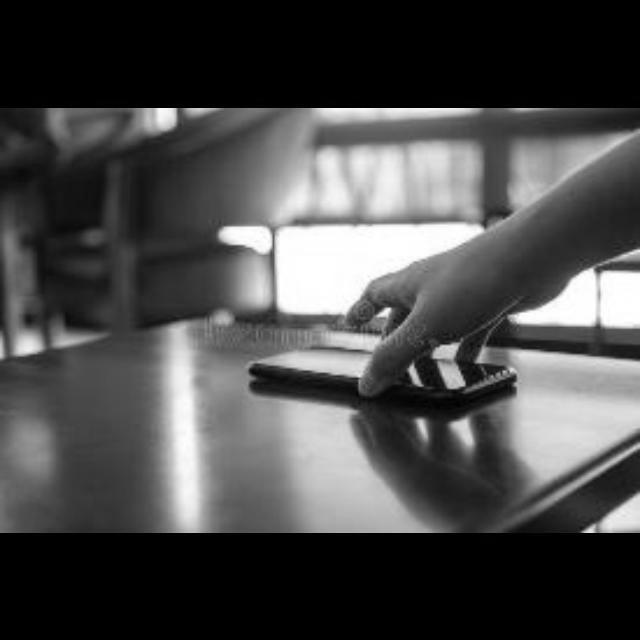fake: (227, 291, 550, 448)
